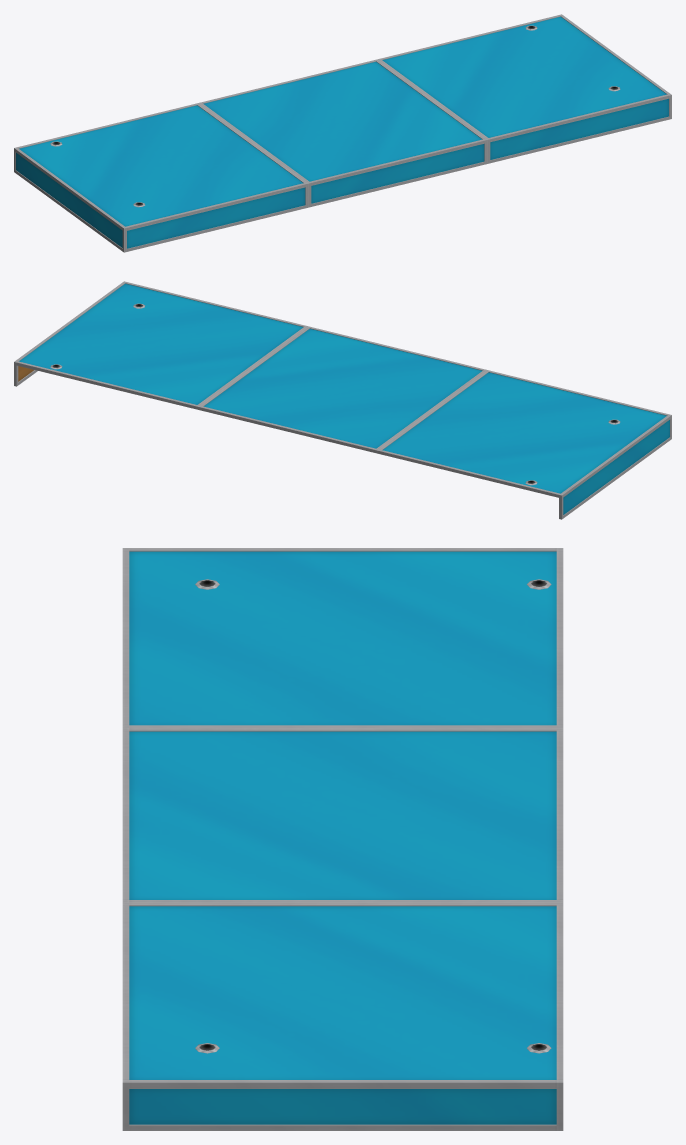
The model's file is jsf_4P_s03_c02_t01_DX.fbx.
3 renders of one model, top to bottom at view 1: azimuth 30°, elevation 25°; view 2: azimuth 150°, elevation 25°; view 3: azimuth 270°, elevation 25°, orthographic. The views are drawn at different scales.
Visible parts, largest first — view 1: jsf_4P_s03_c02_t01_DX; view 2: jsf_4P_s03_c02_t01_DX; view 3: jsf_4P_s03_c02_t01_DX.
Boxes of the visible parts, <box> form: jsf_4P_s03_c02_t01_DX: <box>14,14,671,252</box>; jsf_4P_s03_c02_t01_DX: <box>14,281,671,519</box>; jsf_4P_s03_c02_t01_DX: <box>122,548,563,1130</box>.
Bounding box in the file's own units: 298 × 12.99 × 104.
